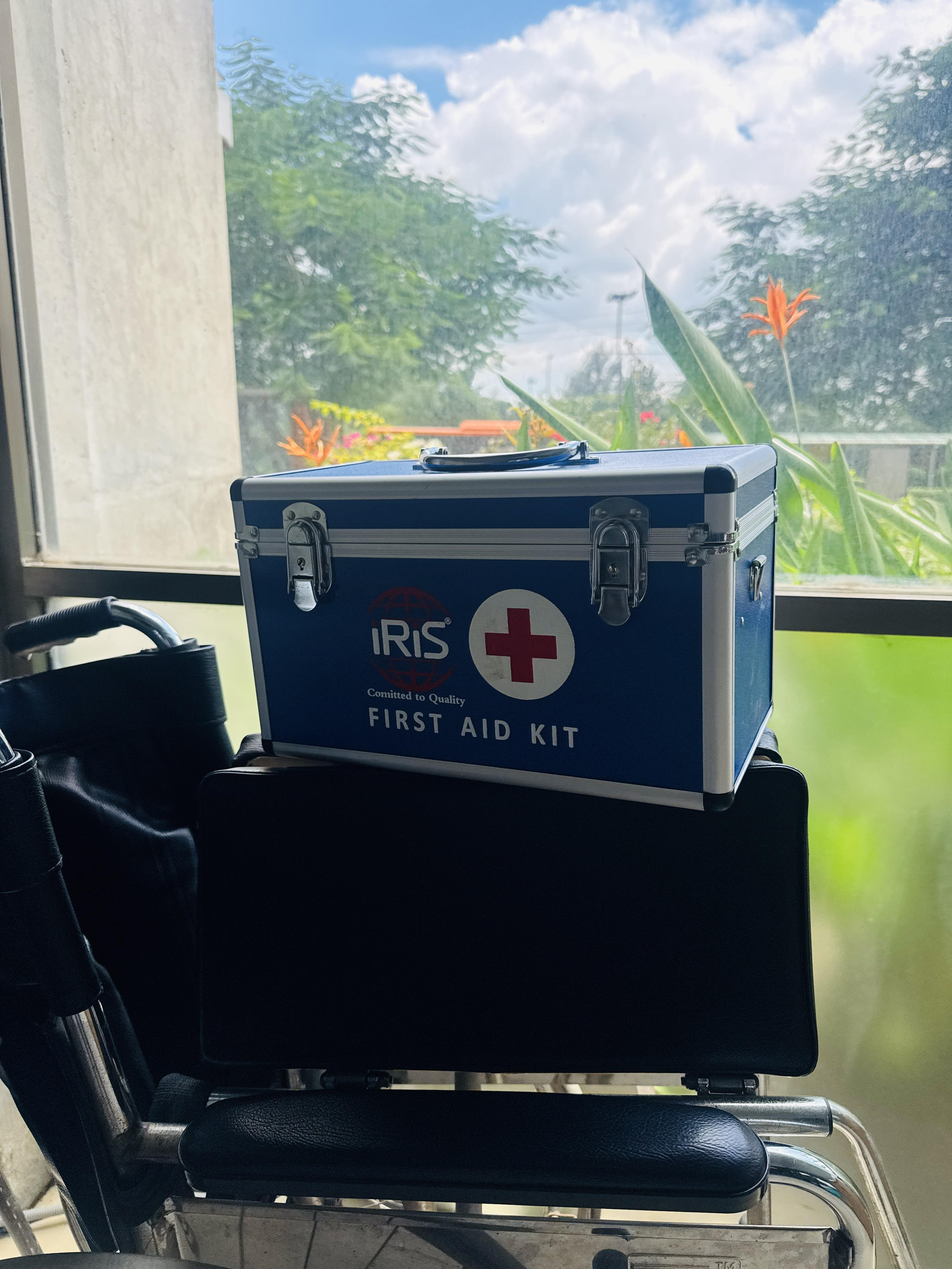FirstAidBox: (208, 421, 805, 823)
